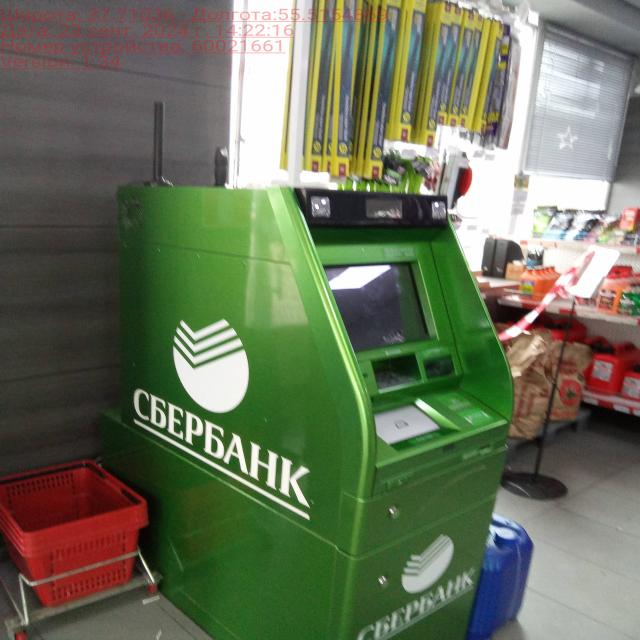bank: (104, 181, 518, 640)
